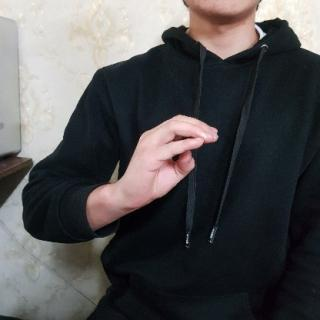JEEM: (116, 110, 224, 212)
